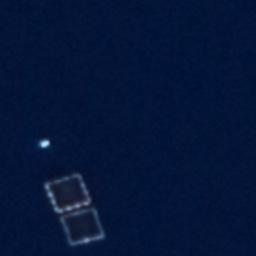square_solid: (41, 170, 98, 216), (57, 204, 109, 250)
